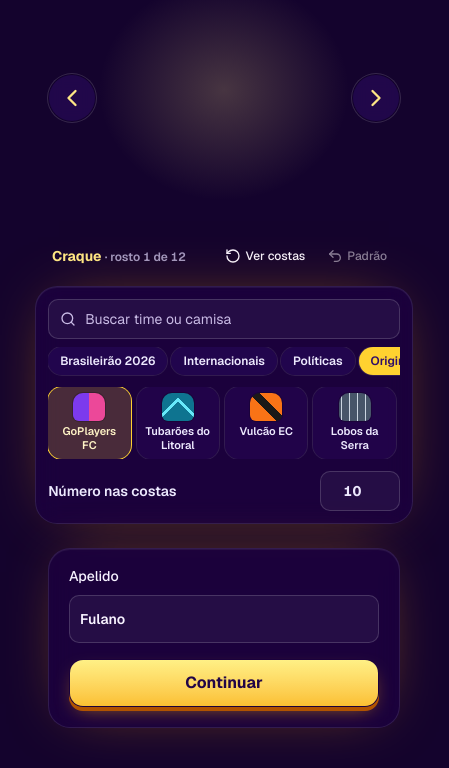
Test: NicknameForm › shows the server message
(page scrolled)
Click the button "Continuar". click: click(224, 682)
box: x1=69 y1=658 x2=379 y2=706
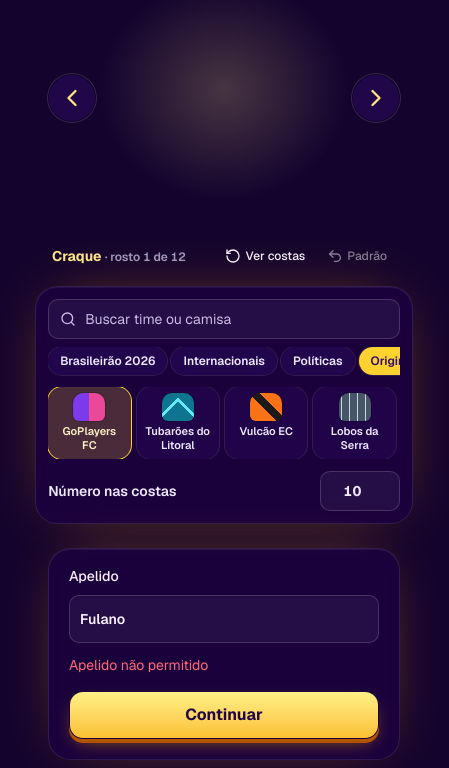
Check: the message reads "Apelido não permitido", box x1=69 y1=656 x2=208 y2=674
